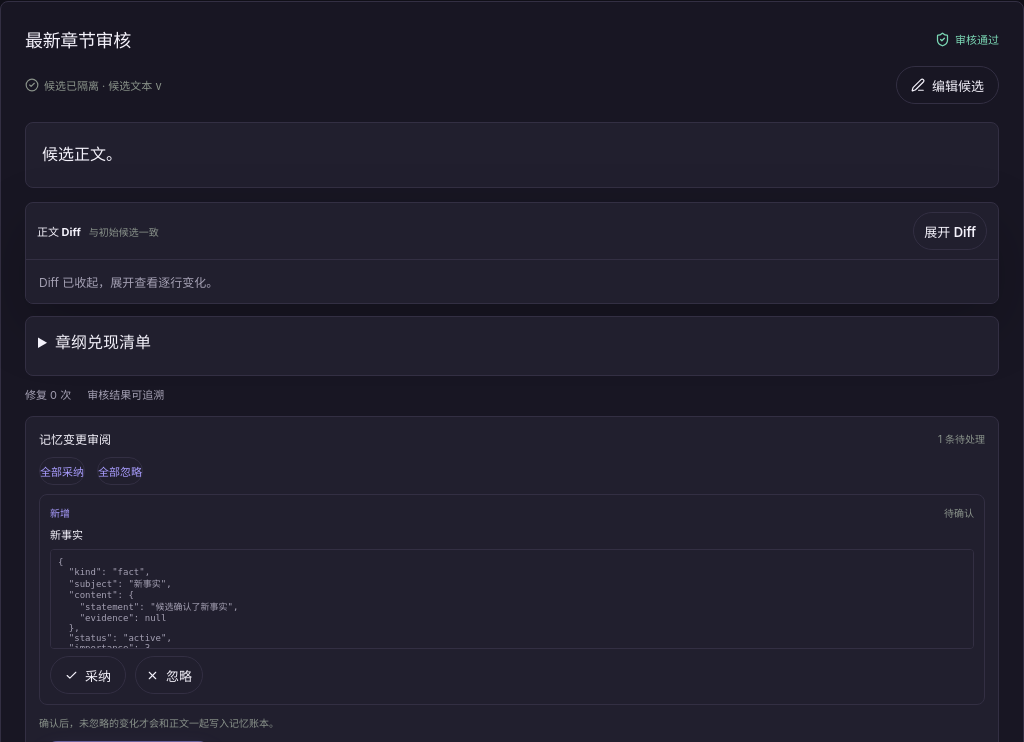
it: ChapterReview memory review › supports a single save for batch memory decisions
The width and height of the screenshot is (1024, 742).
Click the button "全部采纳".
click(62, 471)  # box x1=39 y1=457 x2=85 y2=485
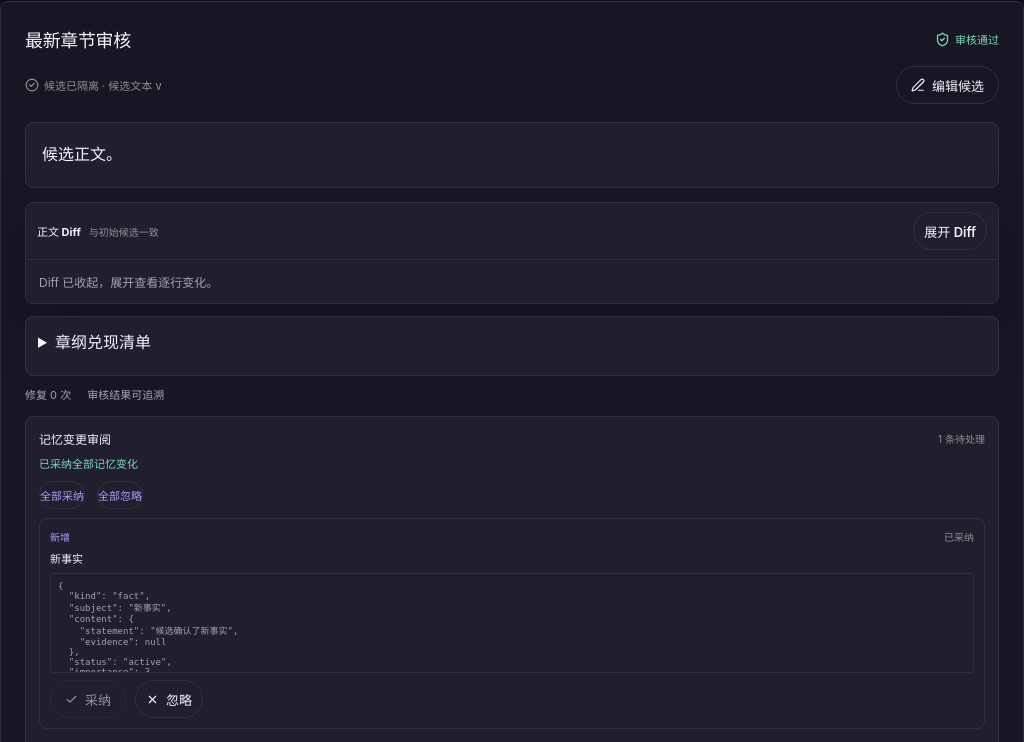
Now the message reads "已采纳全部记忆变化", box x1=39 y1=457 x2=138 y2=471
